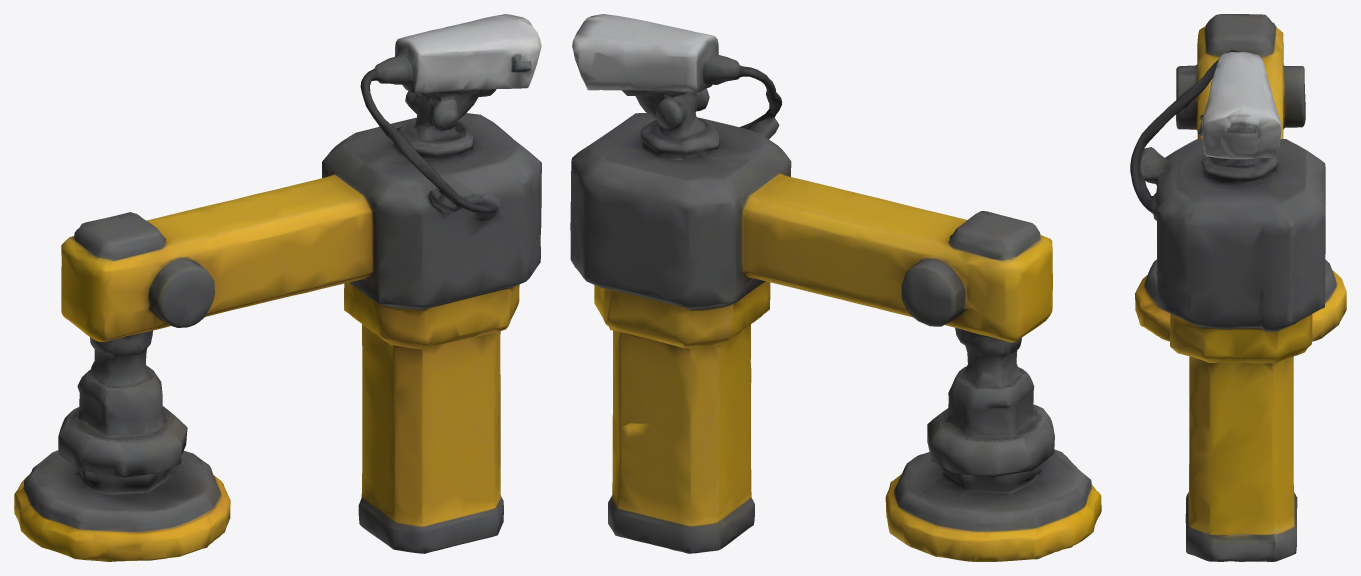
Rendered from Meshy_AI_Industrial_Robot_Arm_0423082801_texture.fbx.
The picture shows the model from 3 angles, left to right: view 1: azimuth 30°, elevation 25°; view 2: azimuth 150°, elevation 25°; view 3: azimuth 270°, elevation 25°; orthographic projection. The views are drawn at different scales.
Visible parts, largest first — view 1: Mesh_0; view 2: Mesh_0; view 3: Mesh_0.
Part boxes in pixels (x1,y1,x2,y2): Mesh_0: [14, 14, 541, 561]; Mesh_0: [570, 14, 1101, 561]; Mesh_0: [1130, 14, 1346, 561].
Bounding box in the file's own units: 200 × 188 × 77.84.
1 material, 1 textured.
